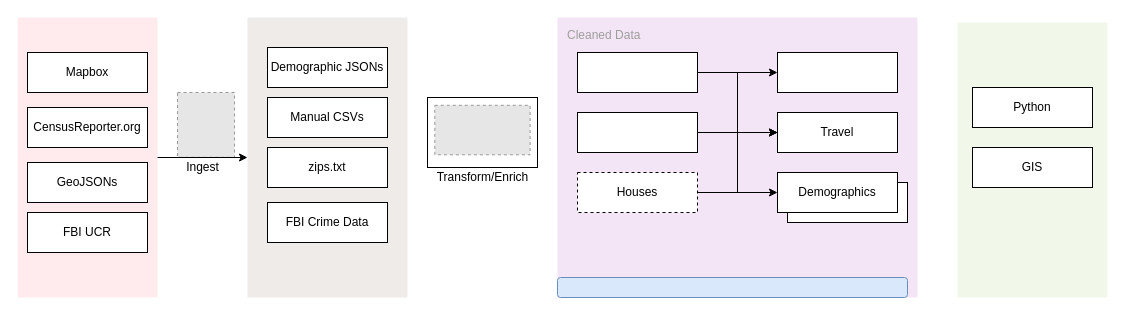
Image size: 1124x315. Some labels were removed from this diagram. Grey dashed boxes stand in for pictures. Each missing label, with the box of its shape:
Analysis: (957, 22, 1107, 297)
County: (576, 112, 698, 152)
Crime: (776, 52, 898, 92)
Iceberg: (556, 276, 908, 298)
Internet: (17, 17, 157, 297)
Raw Data: (247, 17, 407, 297)
ZIP: (576, 52, 698, 92)
